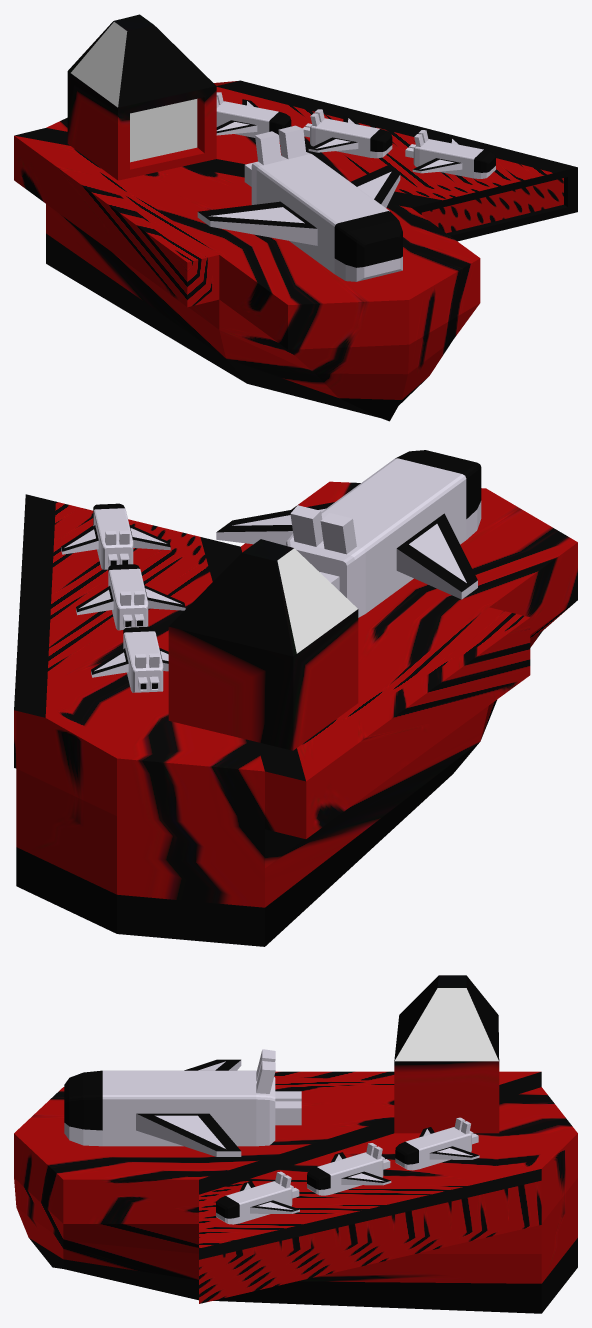
File: RED_AirplaneCarrier.fbx
The picture shows the model from 3 angles, top to bottom: view 1: azimuth 30°, elevation 25°; view 2: azimuth 150°, elevation 25°; view 3: azimuth 270°, elevation 25°; orthographic projection. The views are drawn at different scales.
Parts seen in each view (by area): view 1: Cube, Cube.001, Cube.003, Cube.004, Cube.002; view 2: Cube, Cube.001, Cube.003, Cube.004, Cube.002; view 3: Cube, Cube.001, Cube.003, Cube.002, Cube.004.
Part boxes in pixels (bbox=[...]): Cube: bbox=[14, 14, 577, 421]; Cube.001: bbox=[197, 125, 402, 281]; Cube.003: bbox=[302, 109, 392, 158]; Cube.004: bbox=[405, 130, 495, 178]; Cube.002: bbox=[216, 92, 291, 140]; Cube: bbox=[14, 481, 577, 946]; Cube.001: bbox=[216, 450, 481, 617]; Cube.003: bbox=[76, 564, 185, 630]; Cube.004: bbox=[61, 503, 170, 569]; Cube.002: bbox=[91, 626, 168, 692]; Cube: bbox=[14, 975, 577, 1313]; Cube.001: bbox=[64, 1049, 301, 1156]; Cube.003: bbox=[307, 1143, 391, 1195]; Cube.002: bbox=[395, 1117, 479, 1170]; Cube.004: bbox=[216, 1171, 299, 1224].
Bounding box in the file's own units: 558 × 359 × 706.
